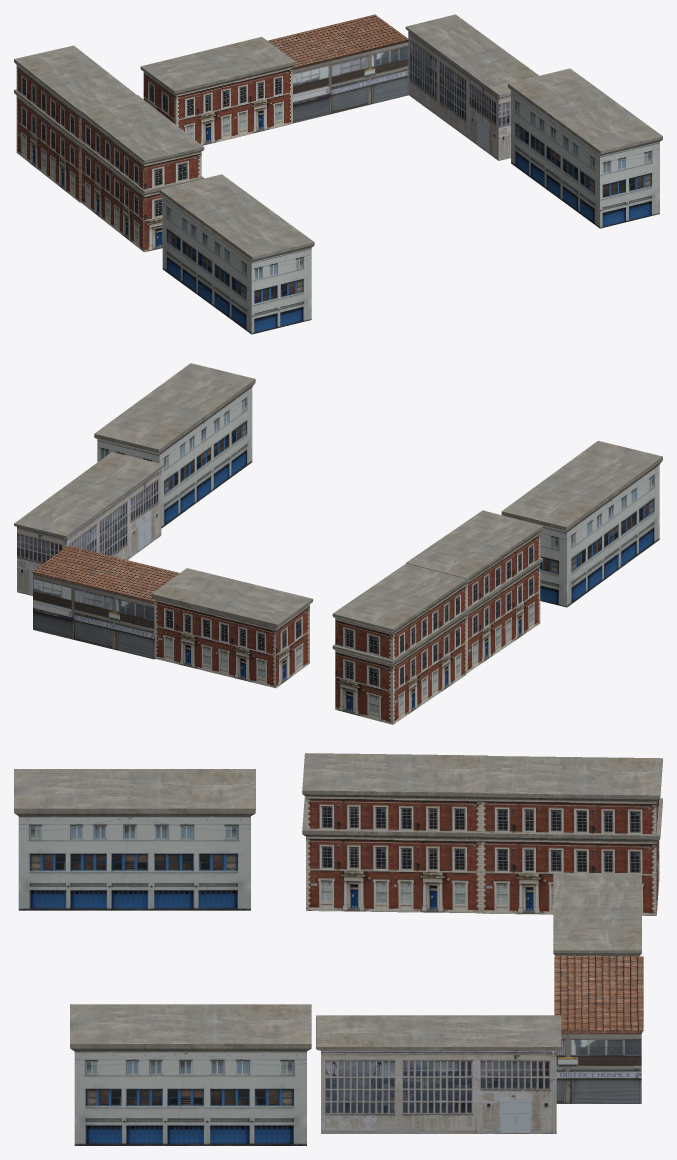
File: Exterior.fbx
3 renders of one model, top to bottom at view 1: azimuth 30°, elevation 25°; view 2: azimuth 150°, elevation 25°; view 3: azimuth 270°, elevation 25°, orthographic. The views are drawn at different scales.
Parts seen in each view (by area): view 1: Exterior; view 2: Exterior; view 3: Exterior.
Boxes of the visible parts, x1=… form: Exterior: x1=14, y1=14, x2=662, y2=334; Exterior: x1=14, y1=363, x2=662, y2=724; Exterior: x1=14, y1=753, x2=662, y2=1145.
Bounding box in the file's own units: 5003 × 1034 × 4993.
1 material, 1 textured.
